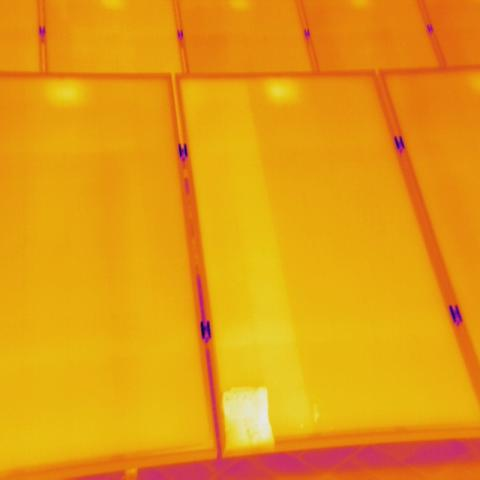fault: (220, 385, 275, 450), (48, 79, 80, 104), (266, 80, 295, 104)
